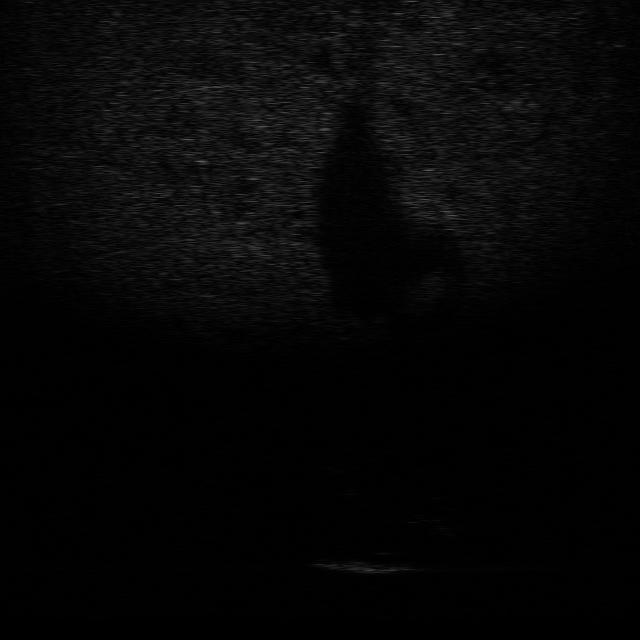ball: (316, 452, 366, 477)
metal bucket: (314, 550, 416, 579)
tyre: (388, 489, 464, 527)
